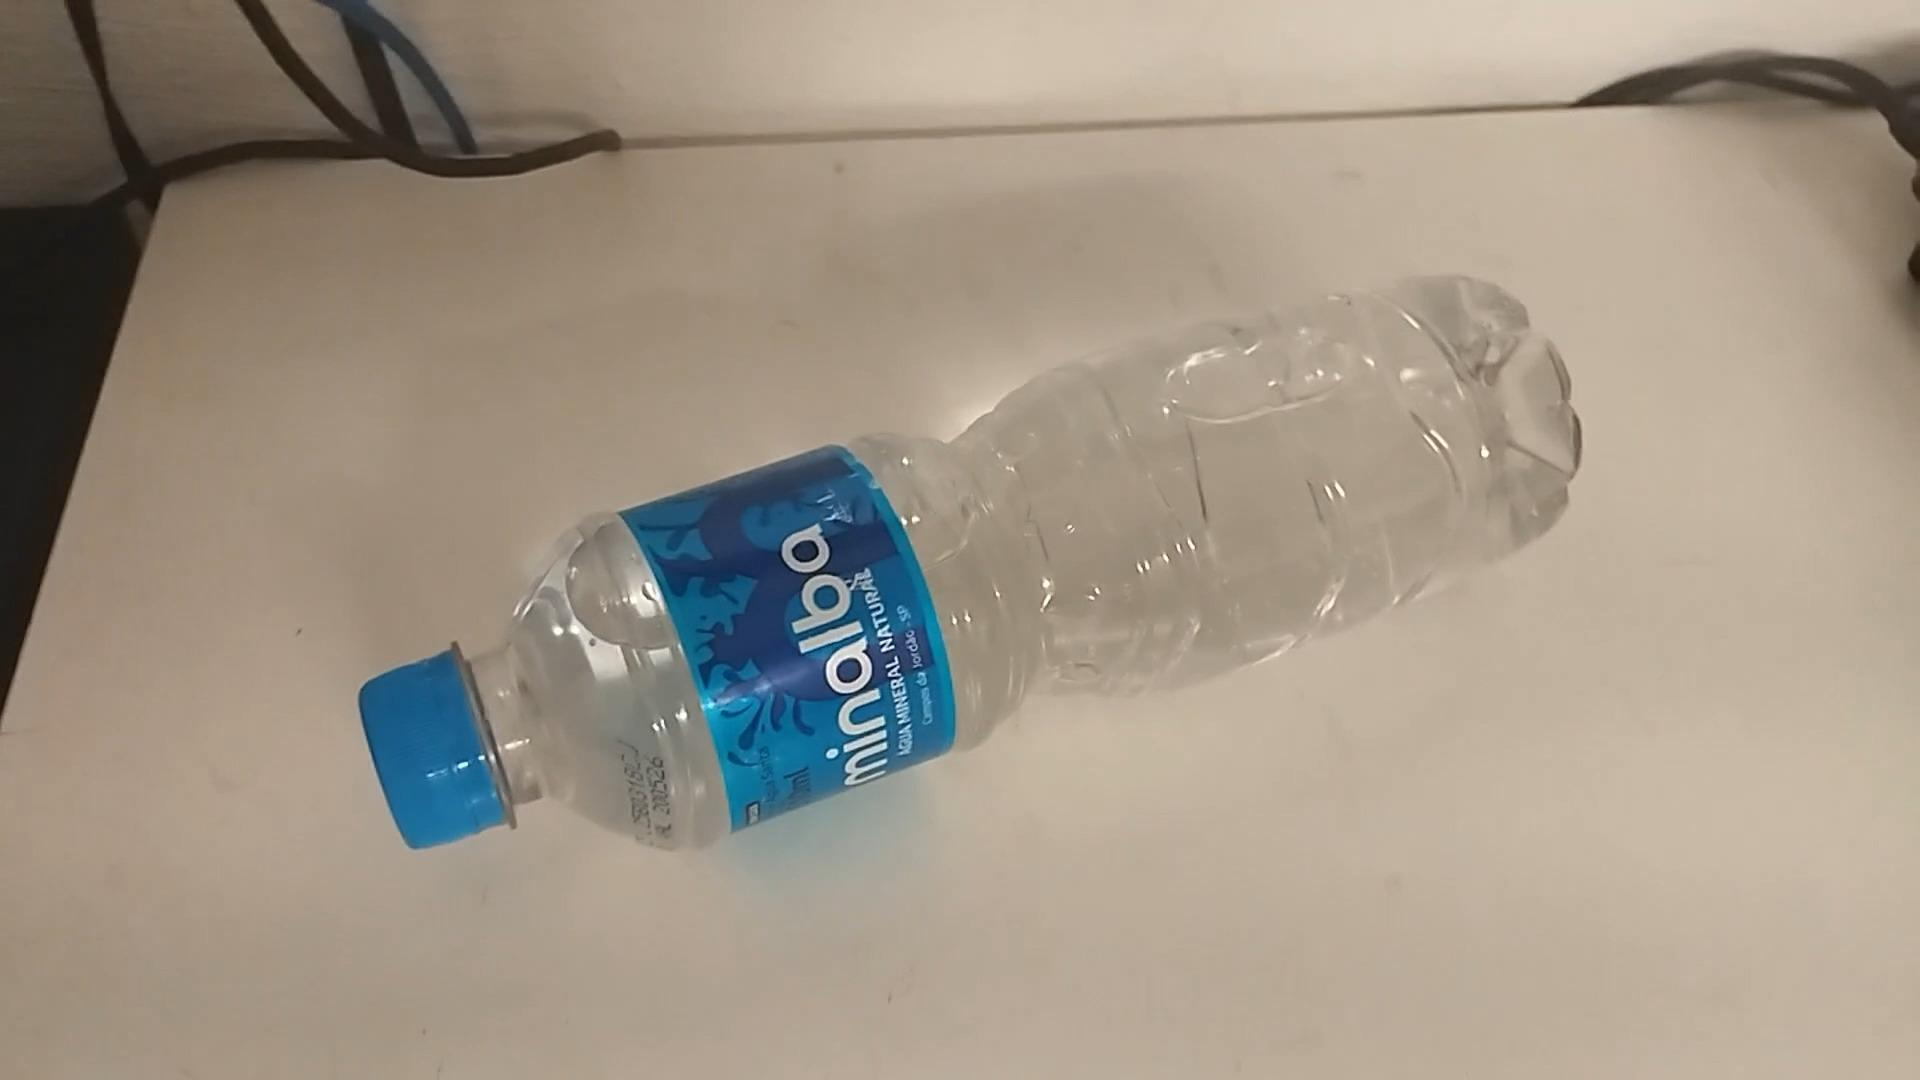agua: (381, 286, 1544, 852)
